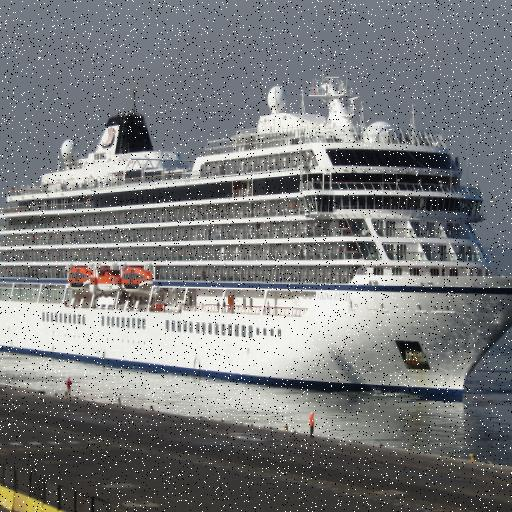cruises: (1, 65, 512, 410)
